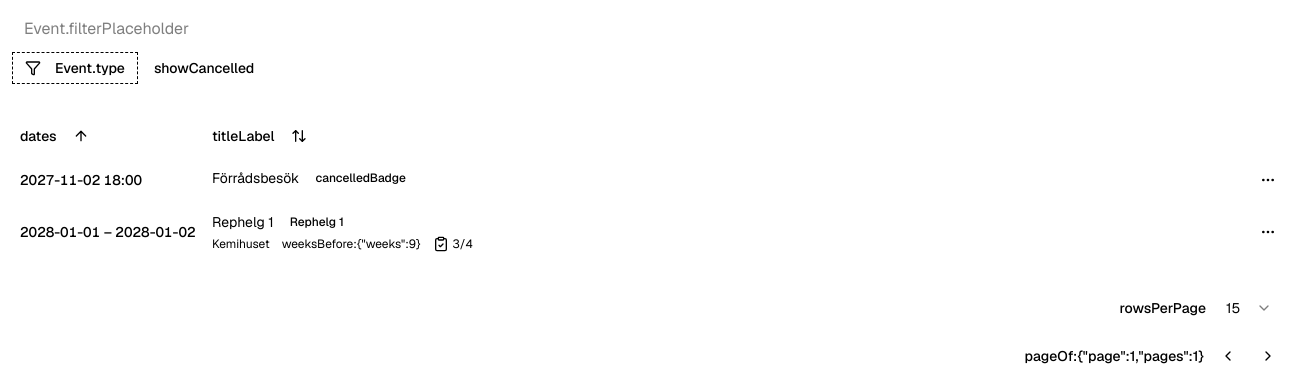
Test: EventTable › shows readers no proposals and no new button, and only the history in a row's menu
Click the button named "rowMenu:{\"title\":\"Förrådsbesök\"}" at (1268, 180), box top-left (1252, 164), bottom-right (1284, 196)
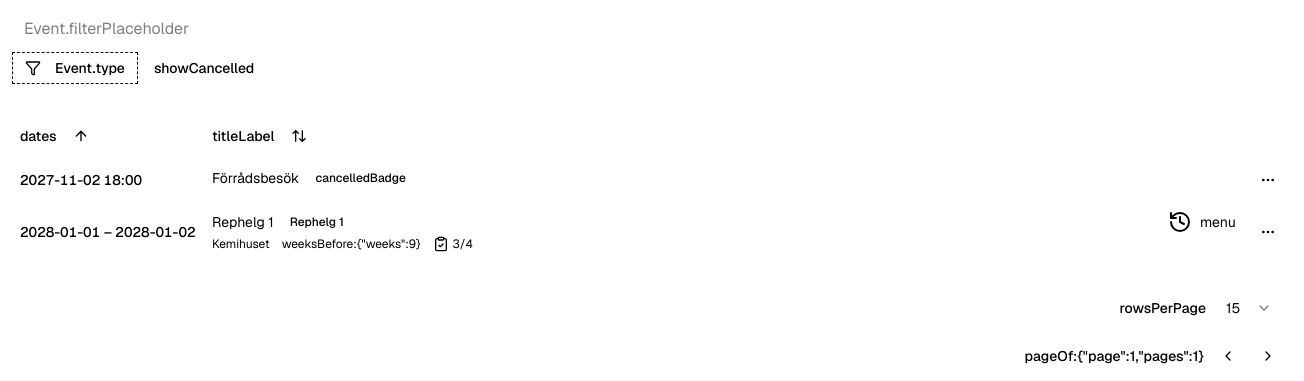
Now the menu item "menu" is shown, box top-left (1168, 210), bottom-right (1236, 234)
